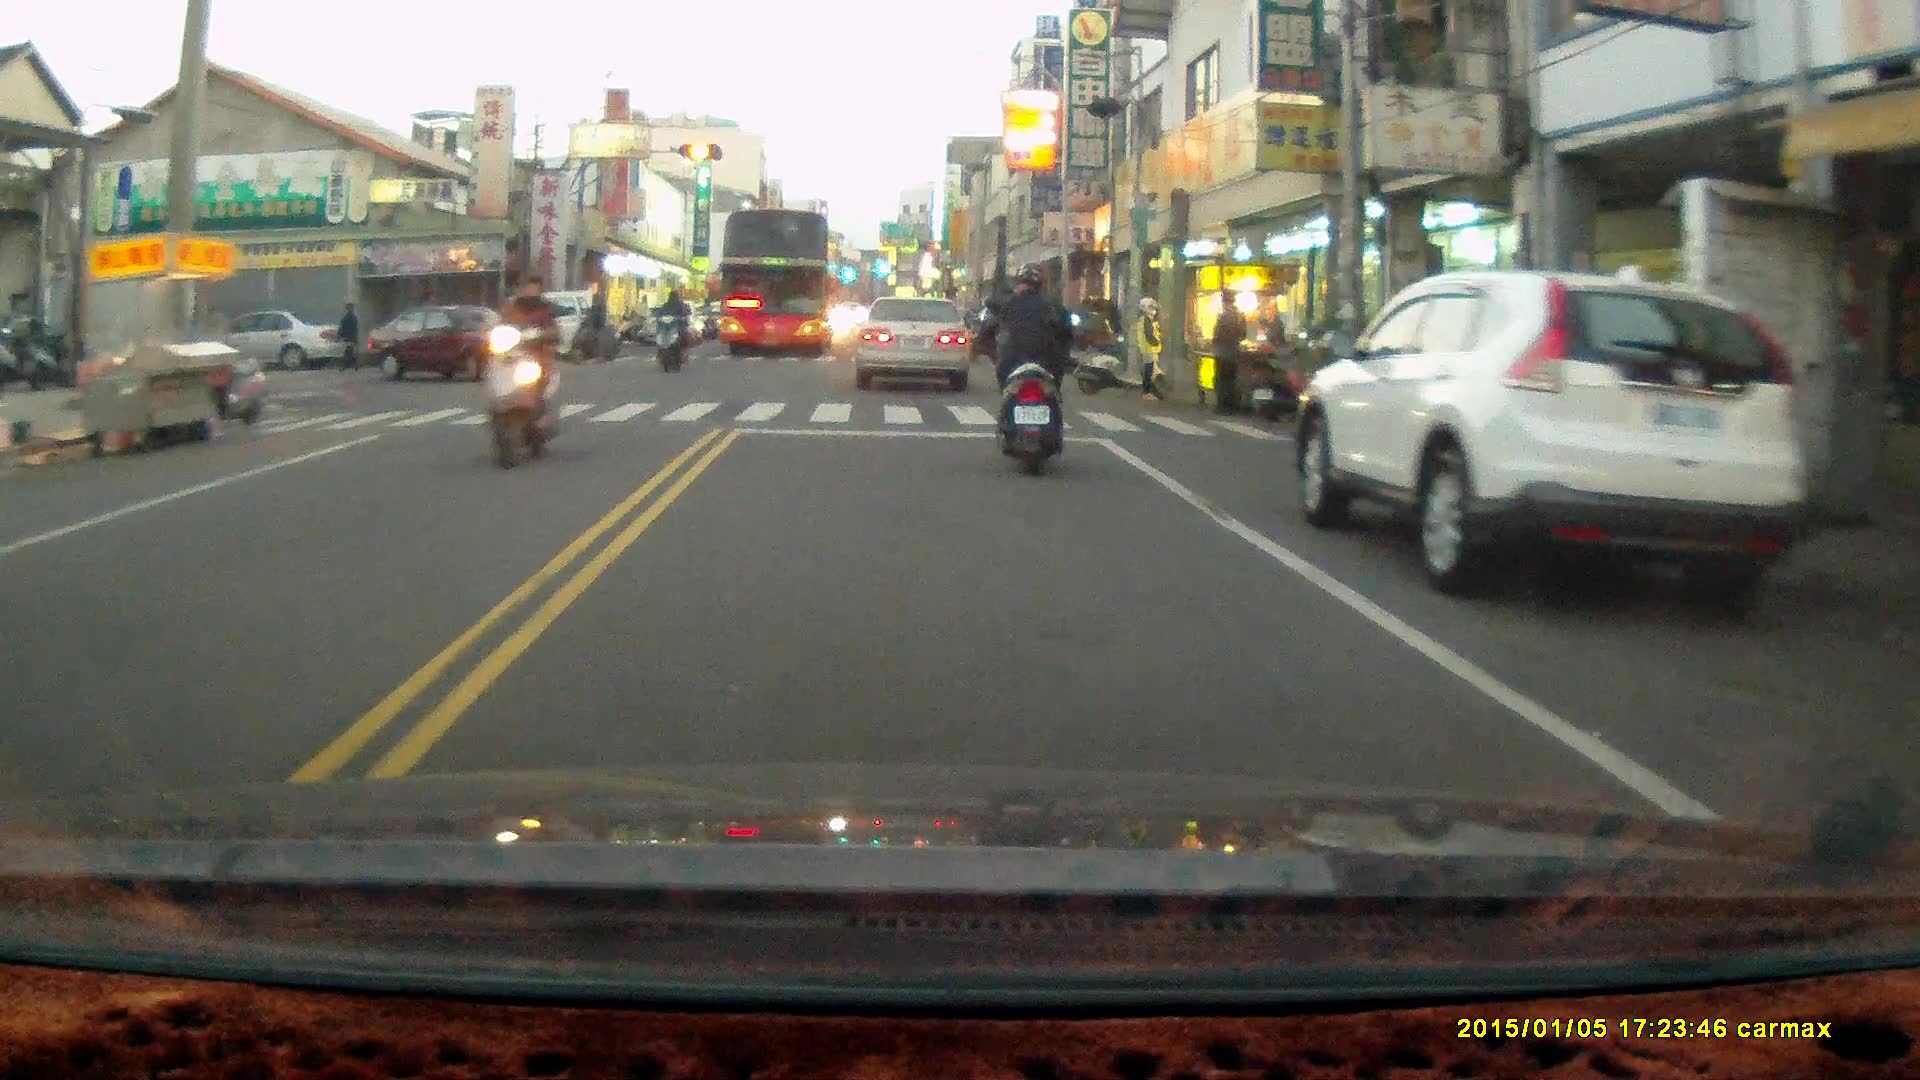pedestrian: (1212, 290, 1249, 423), (1131, 293, 1166, 403), (334, 301, 358, 371)
rider: (978, 259, 1082, 471), (464, 266, 564, 466), (964, 288, 1017, 365), (564, 288, 618, 362), (648, 288, 690, 374)
vehicle: (1293, 265, 1817, 598), (710, 204, 840, 361), (371, 299, 551, 376), (855, 295, 973, 389), (208, 311, 349, 370)
